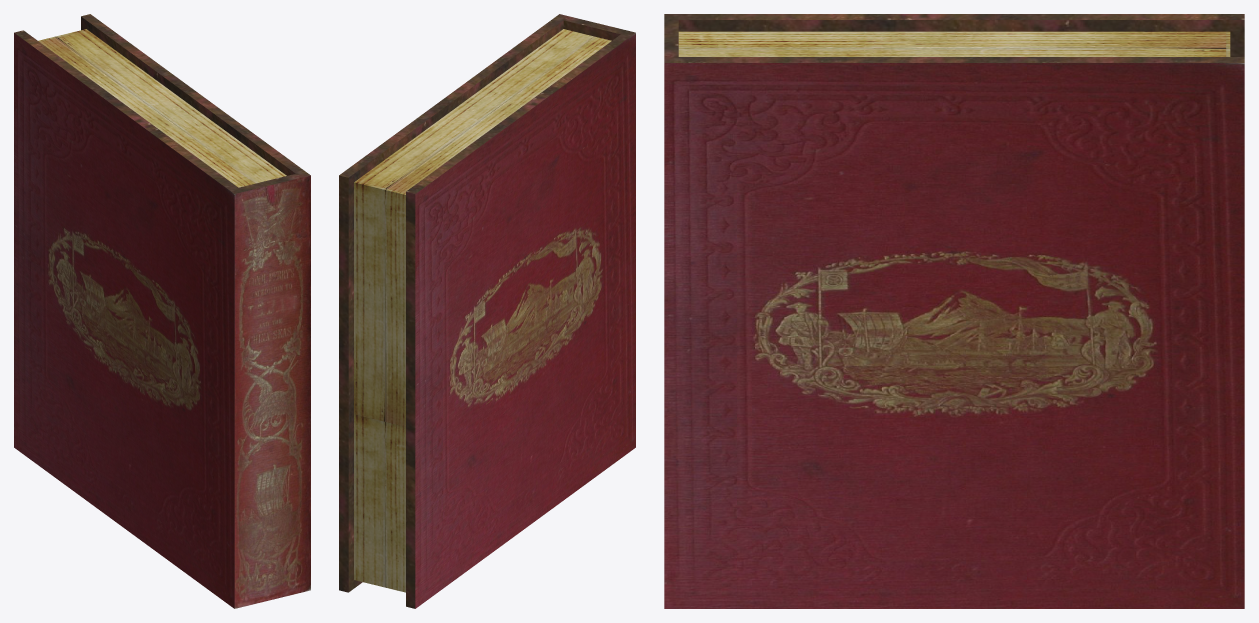
Rendered from book.FBX.
3 renders of one model, left to right at view 1: azimuth 30°, elevation 25°; view 2: azimuth 150°, elevation 25°; view 3: azimuth 270°, elevation 25°, orthographic. The views are drawn at different scales.
Visible parts, largest first — view 1: obj0; view 2: obj0; view 3: obj0.
Boxes of the visible parts, <box> form: obj0: <box>14,14,310,608</box>; obj0: <box>339,14,635,608</box>; obj0: <box>664,14,1244,608</box>.
Size of the model in its own units: 55.6 by 288 by 278.
